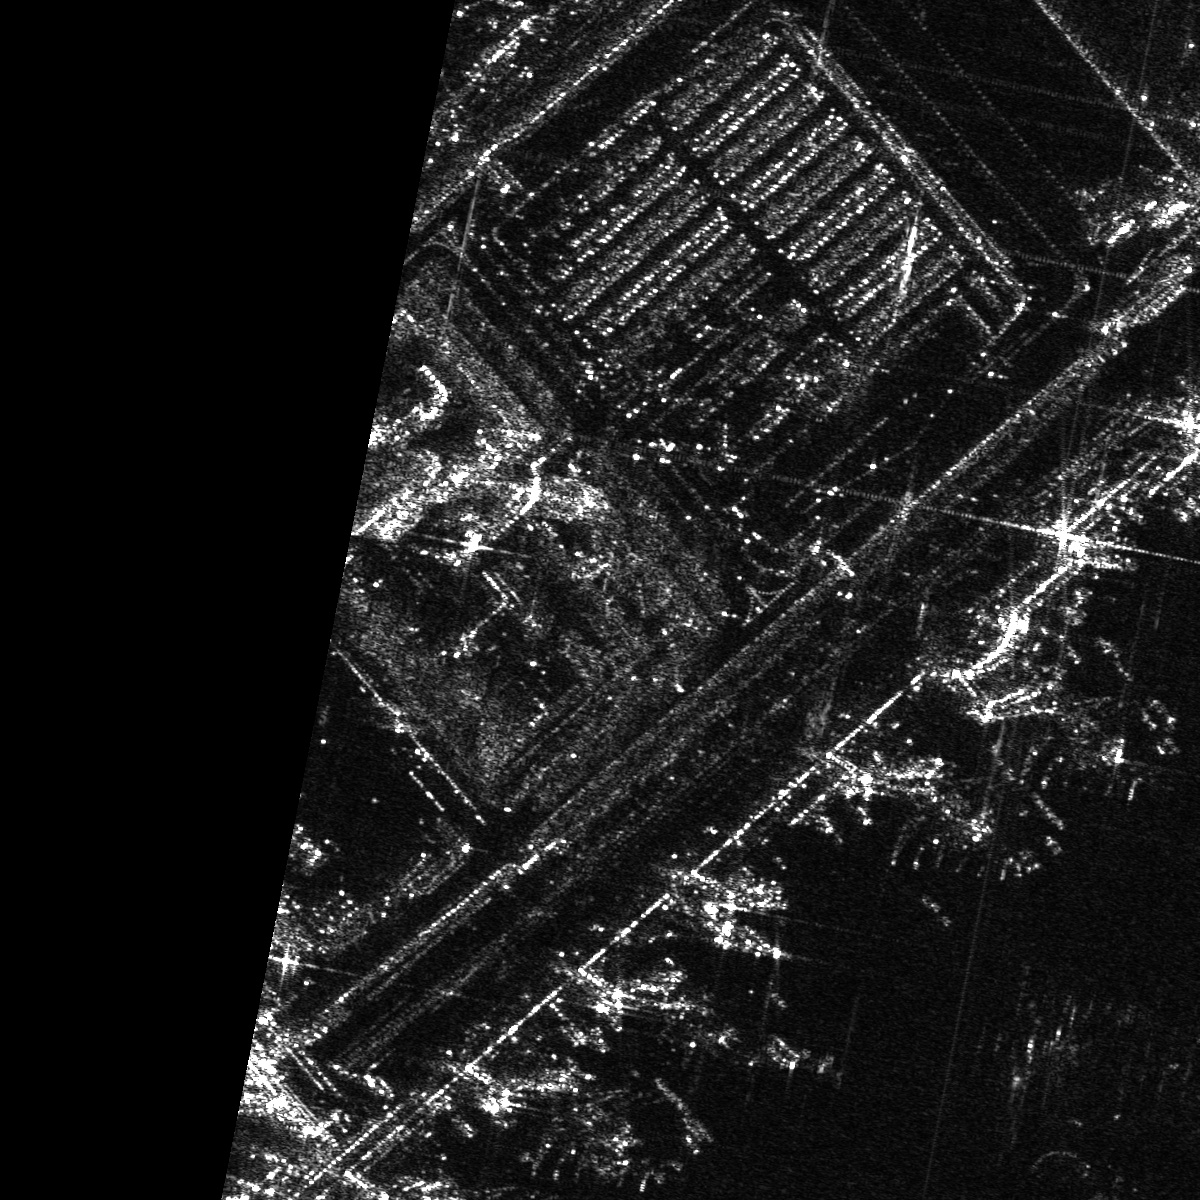Boeing737: (885, 775, 1045, 886), (523, 1088, 673, 1198), (1024, 688, 1173, 797)
